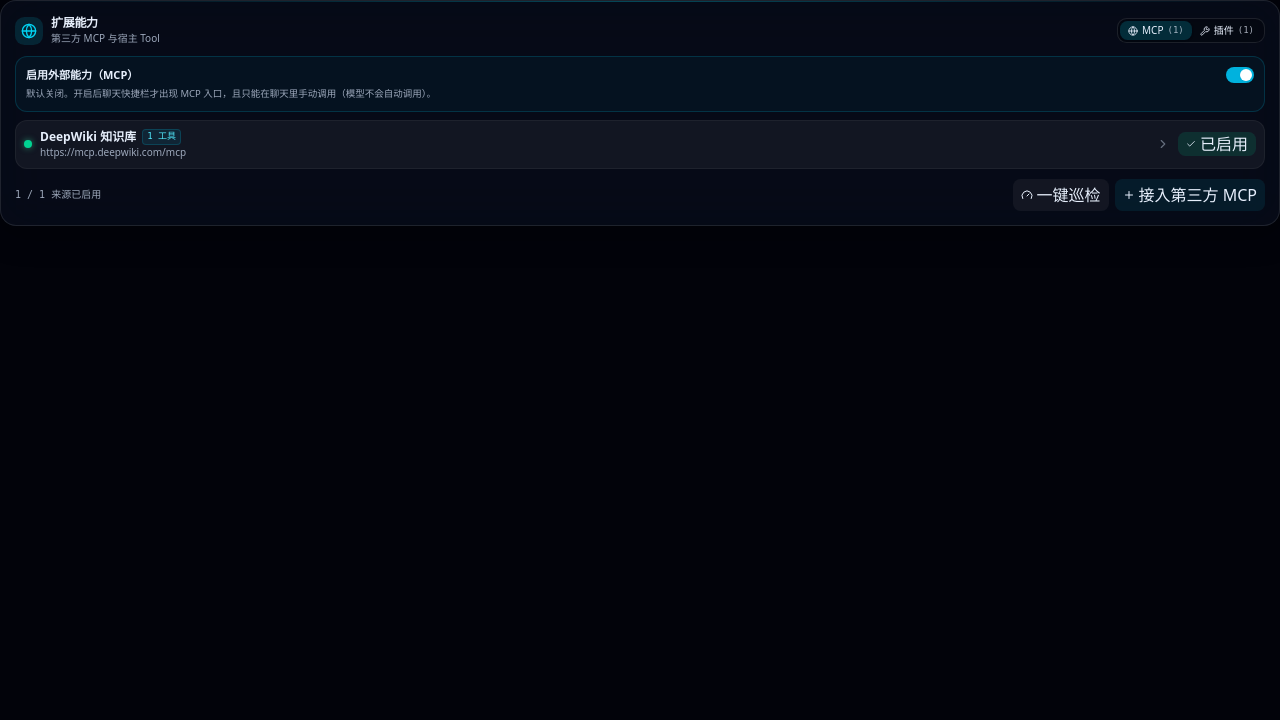
Test case: ToolCapabilitiesWidget (工作台能力中枢与 MCP 视界) › 支持切换到插件标签查看原生 Tool 插件
This screenshot has width=1280, height=720.
Click the text "插件". click: {"x": 1224, "y": 30}
box: [1214,23,1234,38]
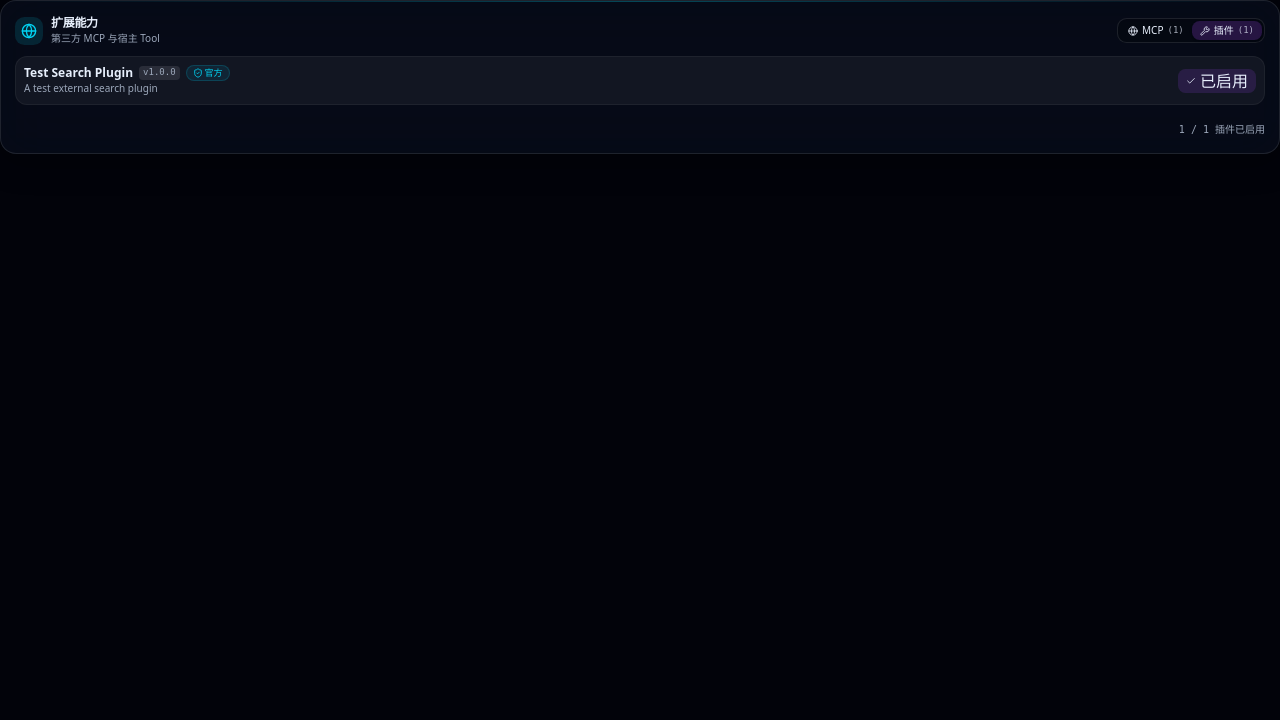
Expected: the text "Test Search Plugin" is shown, [24,65,133,81]
Expected: the text "v1.0.0" is shown, [139,66,180,80]
Expected: the text "官方" is shown, [186,65,230,81]
